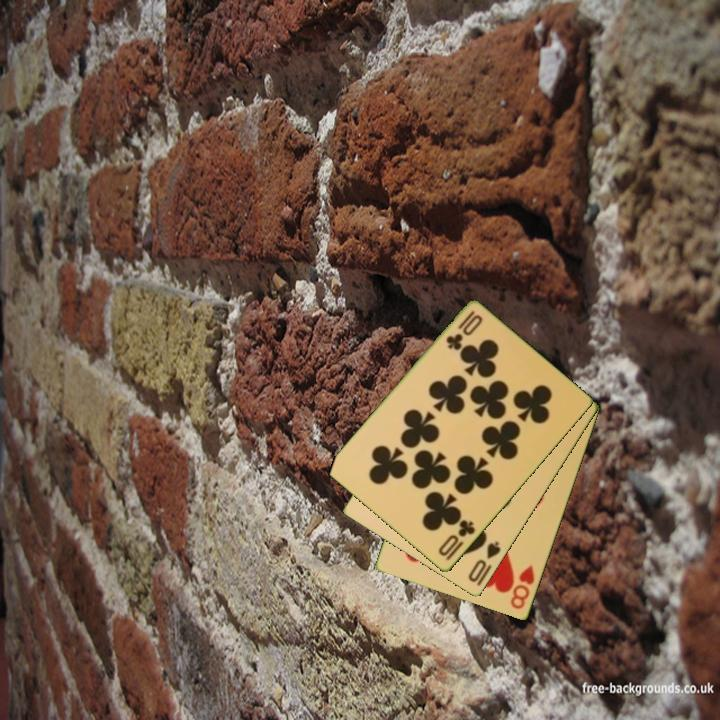10c: (435, 516, 478, 564), (442, 307, 486, 353)
10s: (465, 538, 504, 586)
8h: (507, 562, 538, 612)
